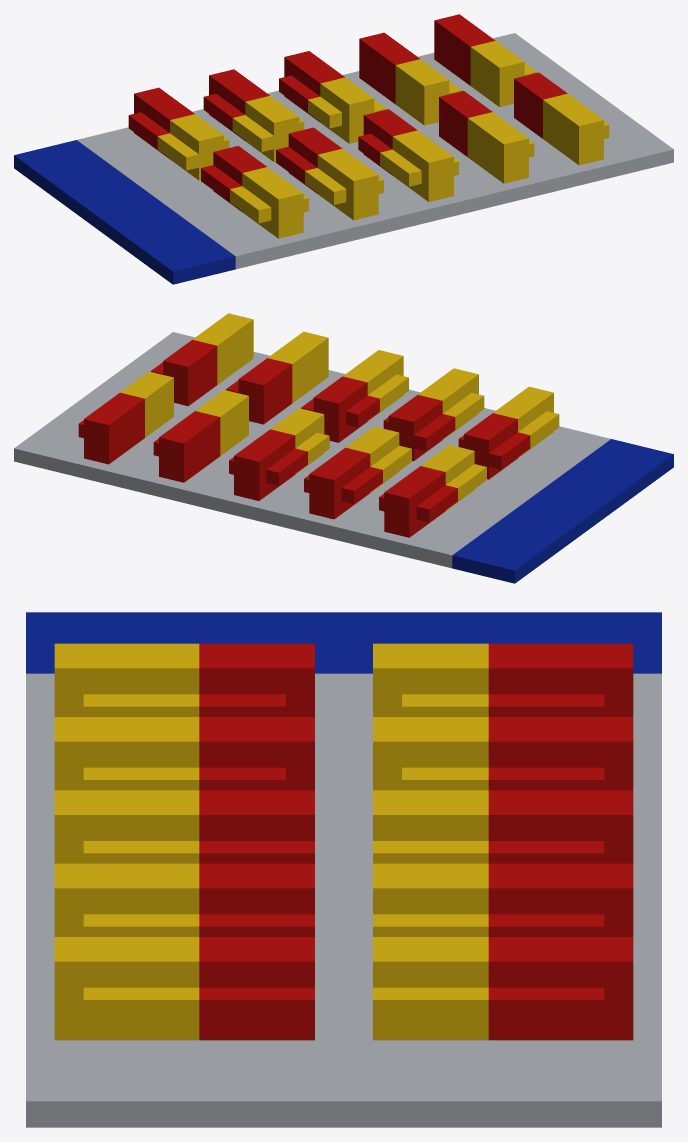
File: broad_spectrum_antibiotic.glb
3 renders of one model, top to bottom at view 1: azimuth 30°, elevation 25°; view 2: azimuth 150°, elevation 25°; view 3: azimuth 270°, elevation 25°, orthographic. The views are drawn at different scales.
Parts seen in each view (by area): view 1: broad_spectrum_antibiotic:compound; view 2: broad_spectrum_antibiotic:compound; view 3: broad_spectrum_antibiotic:compound.
Boxes of the visible parts, x1,y1,x2,y2 form: broad_spectrum_antibiotic:compound: [14, 14, 673, 284]; broad_spectrum_antibiotic:compound: [14, 313, 673, 583]; broad_spectrum_antibiotic:compound: [26, 612, 661, 1127].
Bounding box in the file's own units: 0.08 × 0.008 × 0.044.
